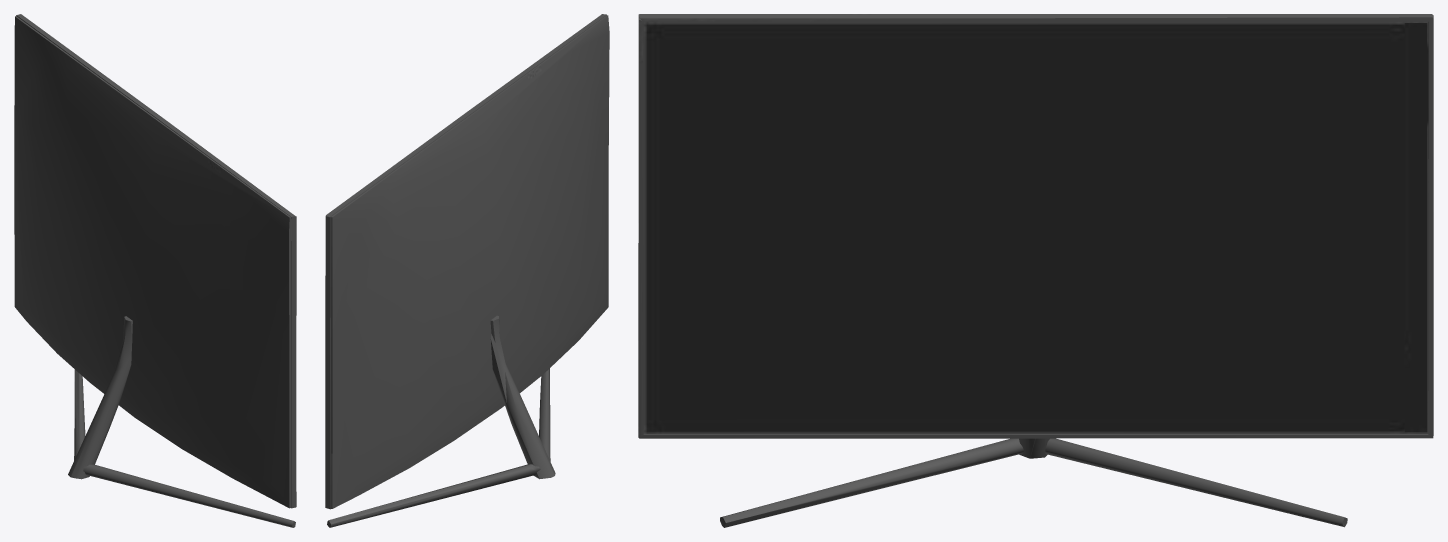
File: Television0001.obj
The picture shows the model from 3 angles, left to right: view 1: azimuth 30°, elevation 25°; view 2: azimuth 150°, elevation 25°; view 3: azimuth 270°, elevation 25°; orthographic projection. The views are drawn at different scales.
Size of the model in its own units: 0.335 by 0.914 by 1.34.
Materials: 1 (1 with a texture image).
